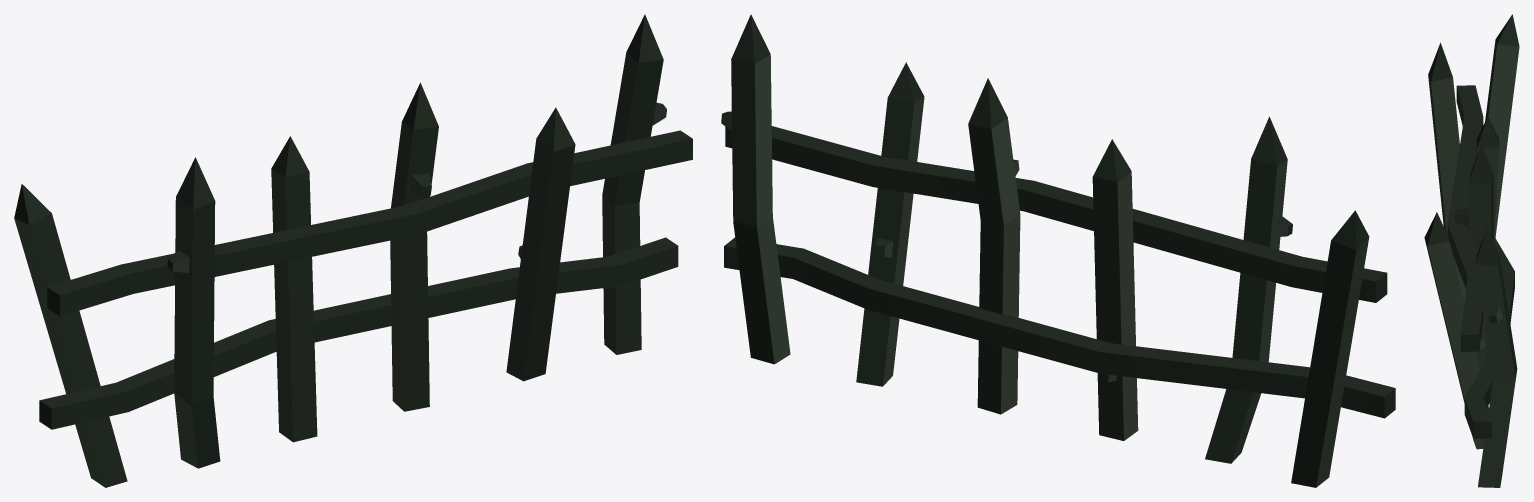
The model's file is SF_Prop_Goblin_Fence_01.glb.
3 views of the same model, side by side, from view 1: azimuth 30°, elevation 25°; view 2: azimuth 150°, elevation 25°; view 3: azimuth 270°, elevation 25° (orthographic). The views are drawn at different scales.
Visible parts, largest first — view 1: SF_Prop_Goblin_Fence_01; view 2: SF_Prop_Goblin_Fence_01; view 3: SF_Prop_Goblin_Fence_01.
Boxes of the visible parts, box(x1,y1,x2,y2) form: SF_Prop_Goblin_Fence_01: box(14, 14, 692, 487); SF_Prop_Goblin_Fence_01: box(721, 14, 1395, 487); SF_Prop_Goblin_Fence_01: box(1424, 14, 1519, 487).
Size of the model in its own units: 0.0446 by 0.0218 by 0.0071.
Materials: 1 (1 with a texture image).
